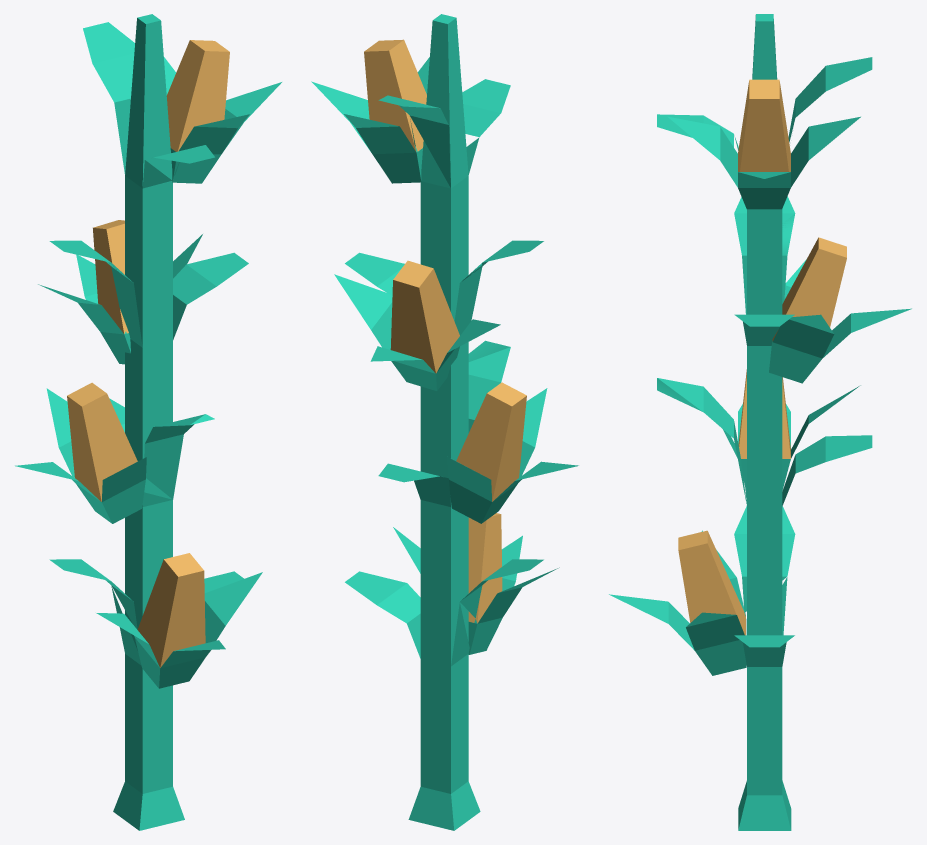
Rendered from corn.obj.
The picture shows the model from 3 angles, left to right: view 1: azimuth 30°, elevation 25°; view 2: azimuth 150°, elevation 25°; view 3: azimuth 270°, elevation 25°; orthographic projection.
Visible parts, largest first — view 1: crops_cornStageD; view 2: crops_cornStageD; view 3: crops_cornStageD.
Part boxes in pixels (left/top/right/bottom): crops_cornStageD: left=15, top=14, right=281, bottom=830; crops_cornStageD: left=311, top=14, right=578, bottom=830; crops_cornStageD: left=609, top=14, right=911, bottom=830.
Bounding box in the file's own units: 0.4416 × 1.25 × 0.4305.
